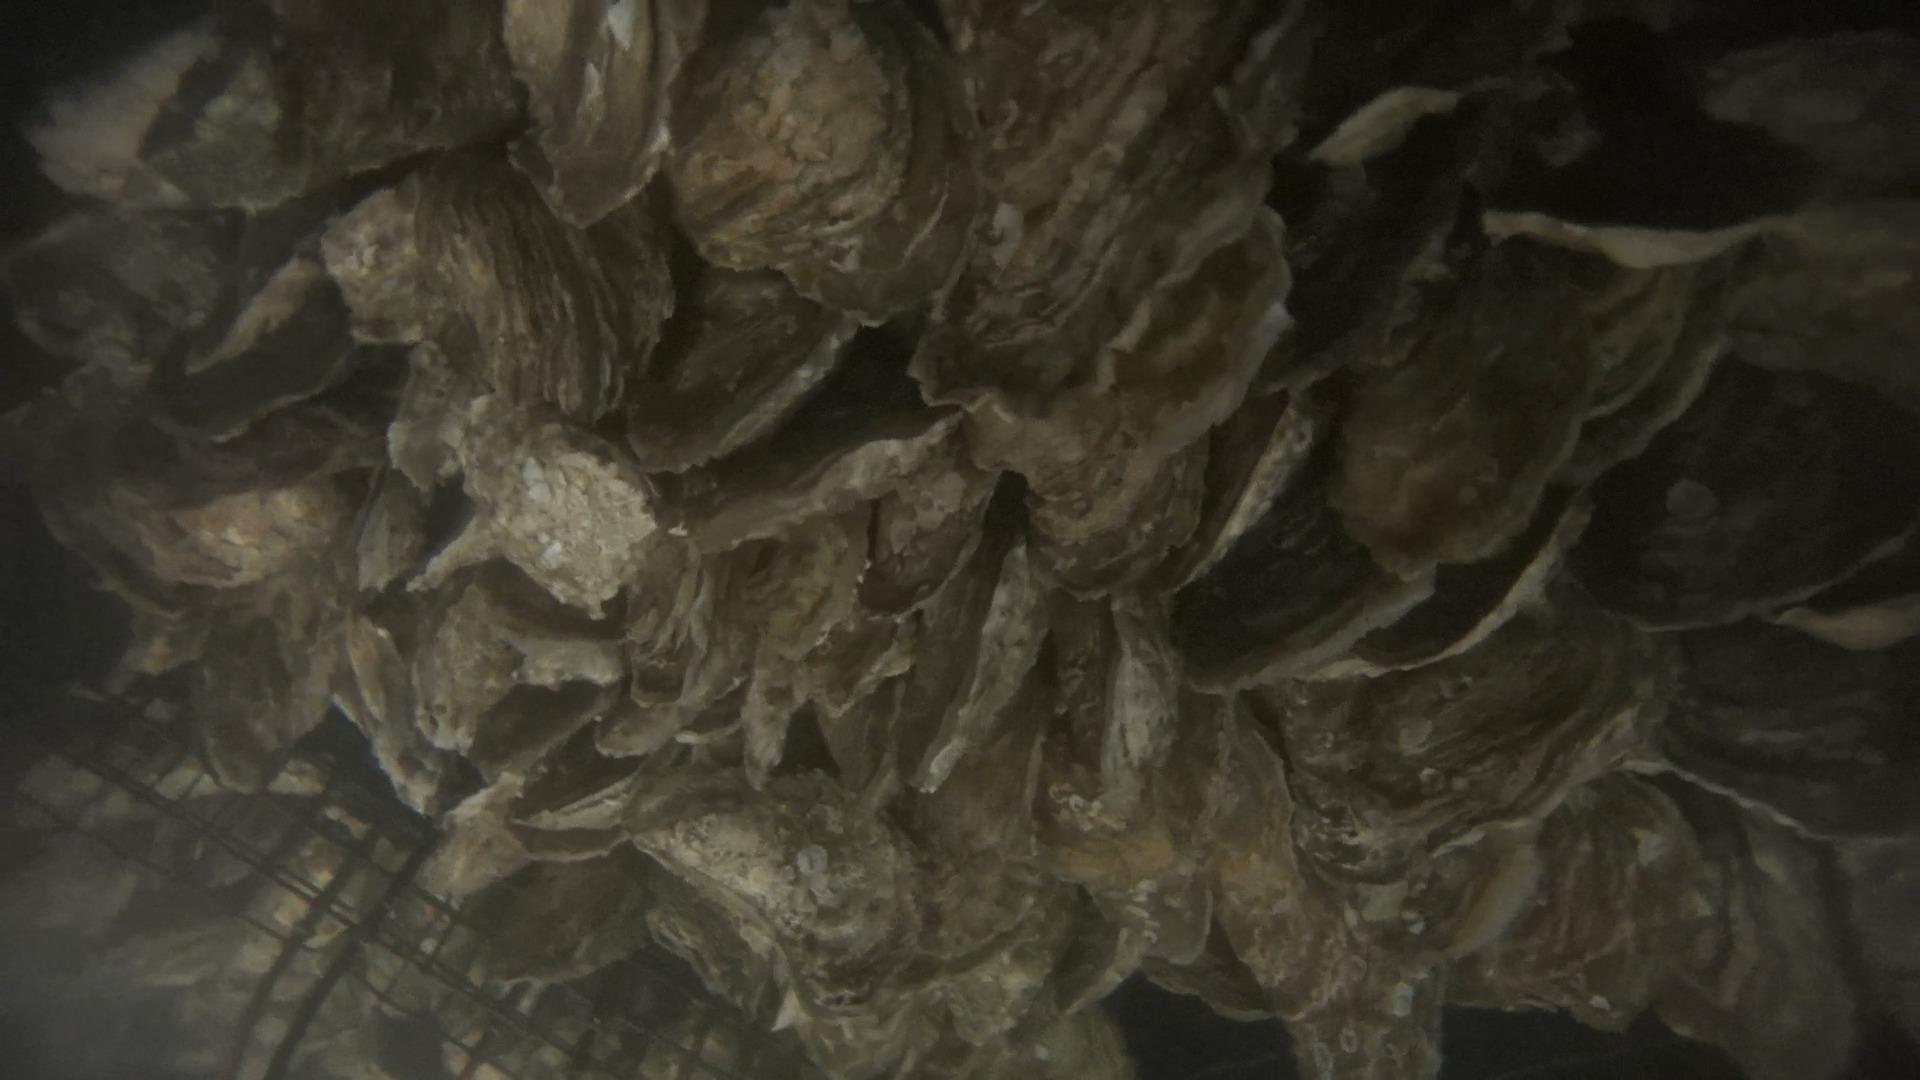Oyster-Closed: (80, 392, 386, 587), (891, 492, 1048, 795), (629, 269, 858, 475), (649, 406, 964, 553), (1156, 372, 1327, 588), (1048, 585, 1164, 825)
Oyster-Open: (1261, 541, 1629, 885), (307, 164, 655, 448), (679, 3, 973, 324), (1335, 251, 1606, 574), (1577, 371, 1913, 618), (1477, 771, 1745, 1019), (1629, 622, 1900, 841), (633, 786, 891, 957), (433, 439, 661, 616), (15, 210, 249, 371), (746, 498, 880, 676)
